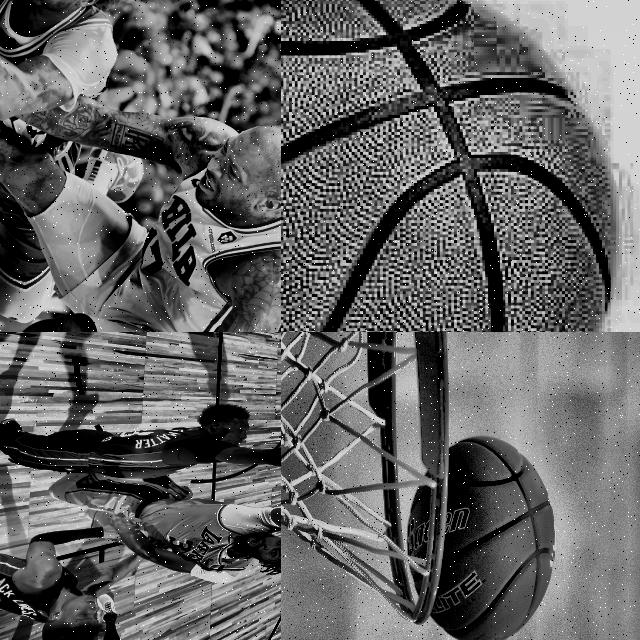Basketball: (430, 436, 555, 640), (407, 488, 429, 554)
